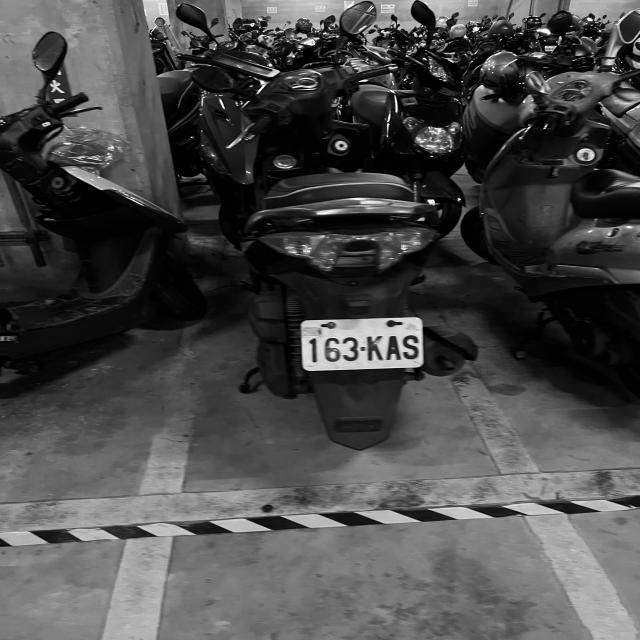-: (359, 346, 367, 352)
1: (307, 336, 320, 364)
3: (342, 336, 360, 362)
6: (324, 337, 341, 362)
A: (386, 334, 402, 360)
K: (366, 334, 384, 362)
S: (400, 334, 420, 360)
plate: (304, 320, 426, 370)
